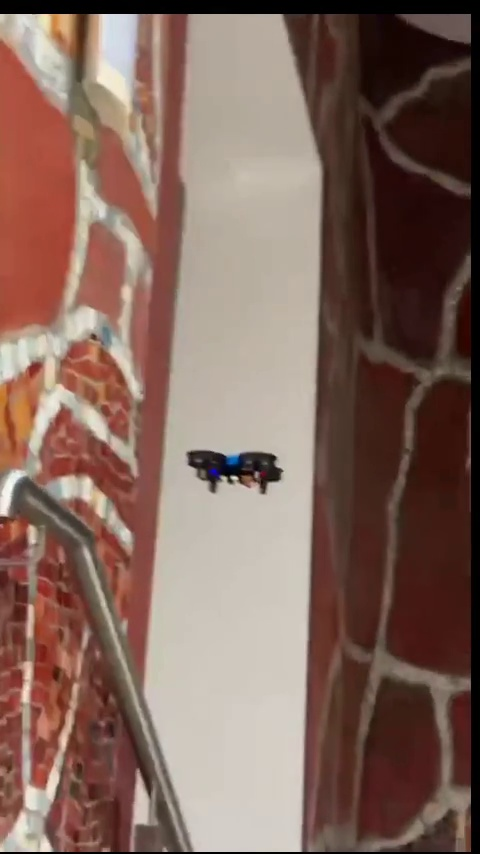drone: (185, 453, 286, 495)
